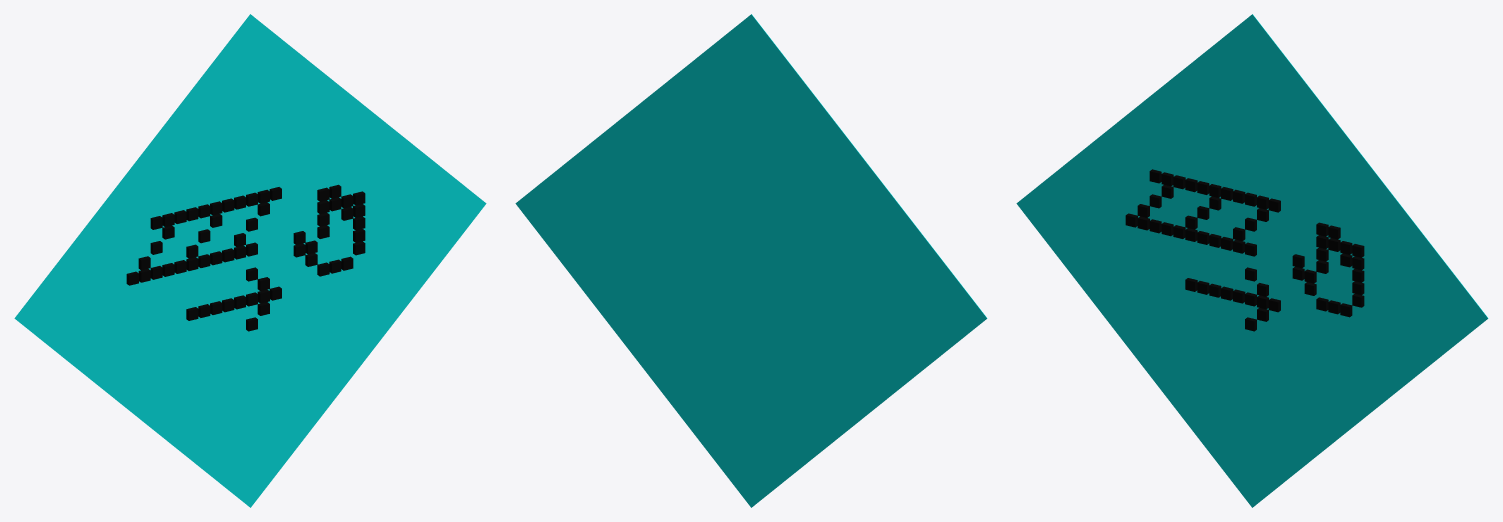
Rendered from ReturnSetToHand.fbx.
The picture shows the model from 3 angles, left to right: view 1: azimuth 30°, elevation 25°; view 2: azimuth 150°, elevation 25°; view 3: azimuth 330°, elevation 25°; orthographic projection.
Visible parts, largest first — view 1: Cube.001; view 2: Cube.001; view 3: Cube.001.
Boxes of the visible parts, box(x1,y1,x2,y2) form: Cube.001: box(14, 14, 486, 507); Cube.001: box(515, 14, 987, 507); Cube.001: box(1016, 14, 1488, 507).
Bounding box in the file's own units: 198 × 198 × 2.1.
